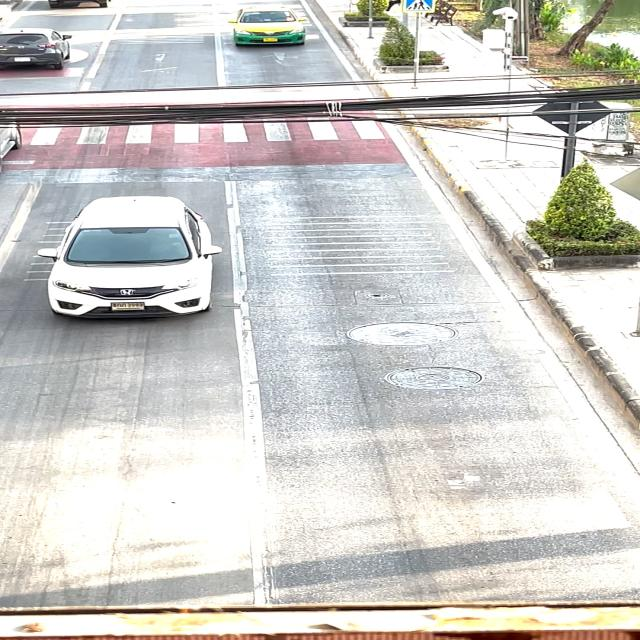car: (6, 182, 241, 344), (217, 2, 314, 59)
